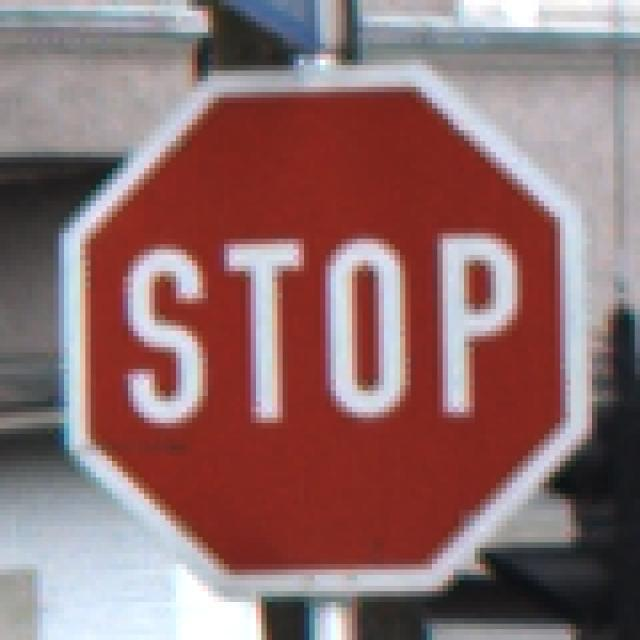stop: (57, 57, 595, 601)
